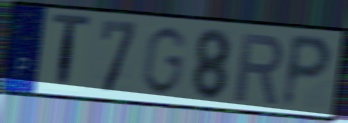7: (98, 18, 140, 95)
8: (189, 26, 234, 104)
G: (139, 24, 189, 98)
P: (279, 31, 335, 112)
R: (232, 30, 286, 107)
T: (50, 11, 93, 94)
